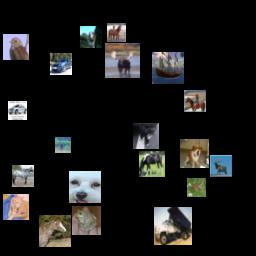automobile: (50, 53, 72, 75), (8, 101, 27, 120)
bird: (3, 34, 29, 60)
cat: (133, 123, 159, 149), (3, 194, 29, 220)
deer: (105, 43, 140, 78), (210, 155, 232, 177), (187, 178, 206, 197), (55, 137, 71, 153)
dog: (69, 171, 101, 203), (180, 139, 209, 168), (80, 26, 102, 48)
frog: (72, 206, 101, 235)
ship: (152, 52, 184, 84)
truck: (154, 207, 192, 245)
